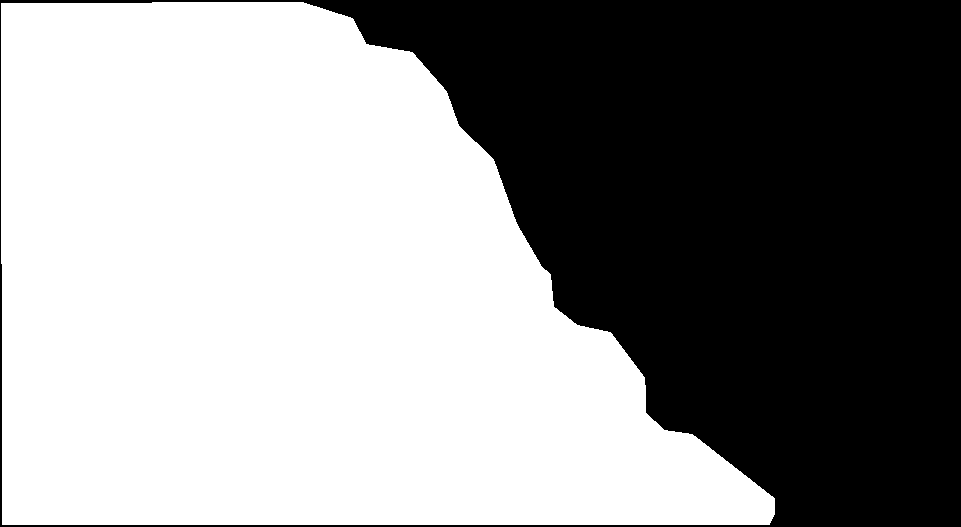fire: (56, 7, 778, 527)
